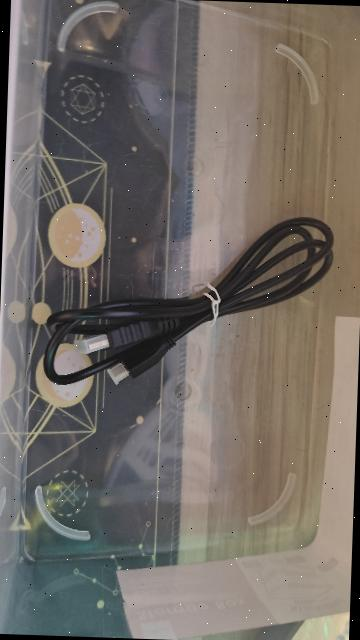hdmi_cable: (34, 195, 340, 400)
